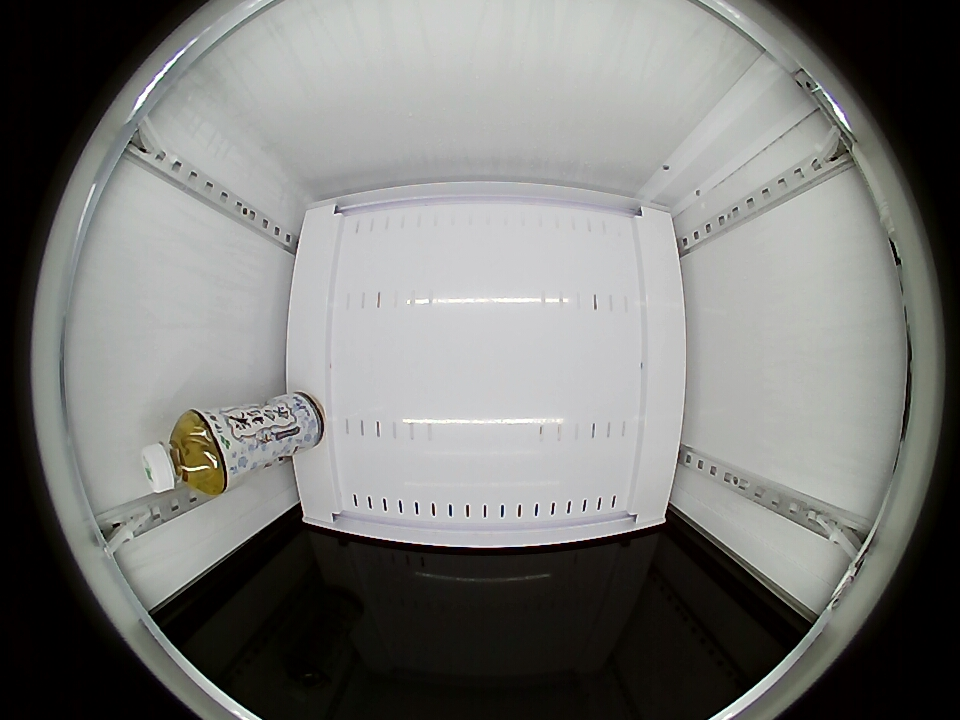baicha: (140, 411, 228, 496)
